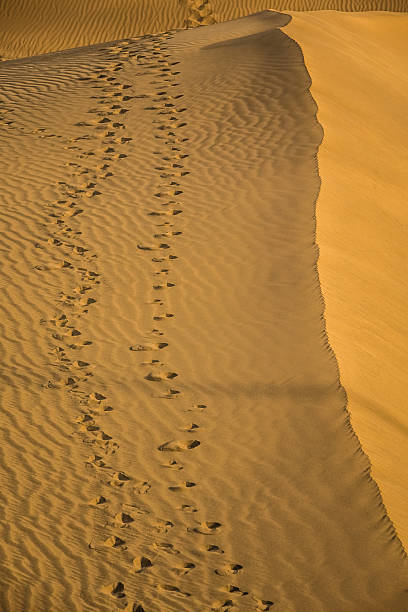animal_foot_print: (37, 57, 136, 549), (158, 439, 199, 451), (187, 521, 221, 534), (157, 584, 190, 597), (101, 581, 125, 598), (112, 510, 134, 527), (132, 555, 152, 572), (214, 563, 242, 575), (107, 471, 129, 486), (144, 371, 177, 381), (103, 535, 126, 549), (252, 596, 273, 611), (153, 542, 179, 554), (222, 584, 248, 596), (168, 481, 196, 492), (172, 562, 195, 575), (85, 454, 107, 467), (211, 598, 233, 611), (147, 208, 182, 216), (153, 519, 174, 532), (133, 481, 152, 495), (156, 388, 180, 399), (161, 459, 183, 470), (153, 189, 182, 197), (137, 243, 170, 250), (123, 601, 146, 611), (88, 495, 107, 506), (151, 254, 177, 262), (89, 391, 106, 403), (160, 170, 189, 177), (153, 230, 181, 237), (153, 282, 175, 290), (204, 544, 223, 553), (180, 423, 198, 432), (140, 359, 163, 366), (185, 404, 206, 411), (152, 313, 173, 320), (179, 504, 197, 512), (147, 328, 163, 335)
